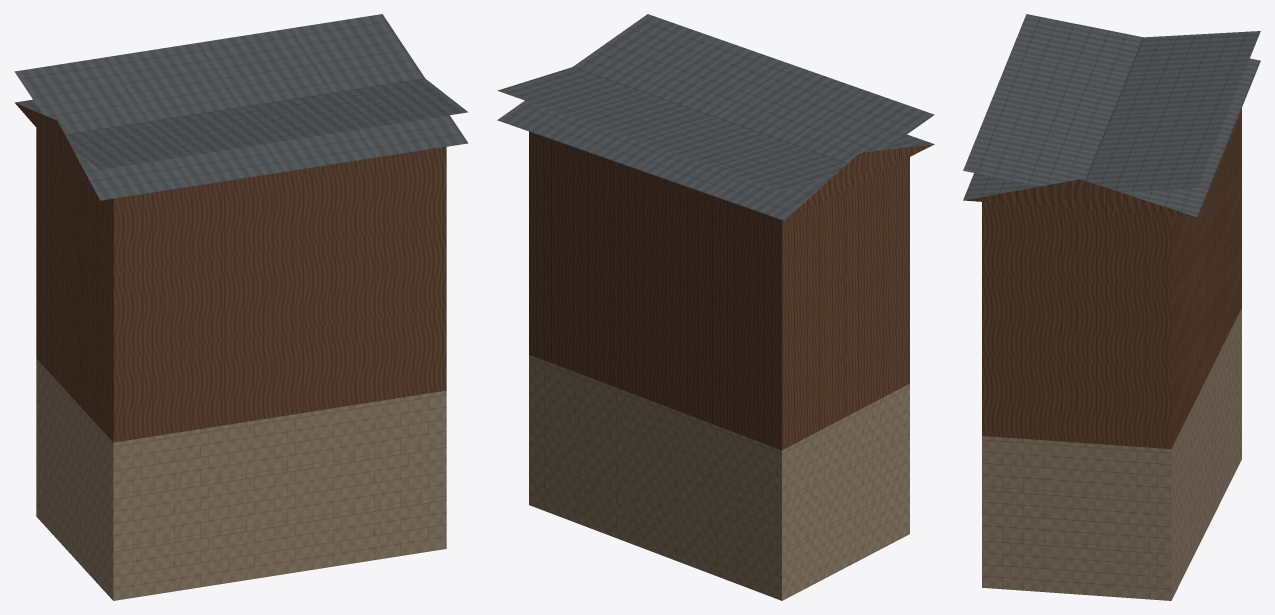
The model's file is bld_c-3_3_538.gltf.
3 views of the same model, side by side, from view 1: azimuth 30°, elevation 25°; view 2: azimuth 150°, elevation 25°; view 3: azimuth 270°, elevation 25° (orthographic). The views are drawn at different scales.
Visible parts, largest first — view 1: bld_c-3_3_538; view 2: bld_c-3_3_538; view 3: bld_c-3_3_538.
Boxes of the visible parts, x1,y1,x2,y2 form: bld_c-3_3_538: (14, 14, 467, 600); bld_c-3_3_538: (497, 14, 934, 600); bld_c-3_3_538: (963, 14, 1260, 600).
Size of the model in its own units: 12.51 by 14.2 by 9.07.
4 materials, 4 textured.
